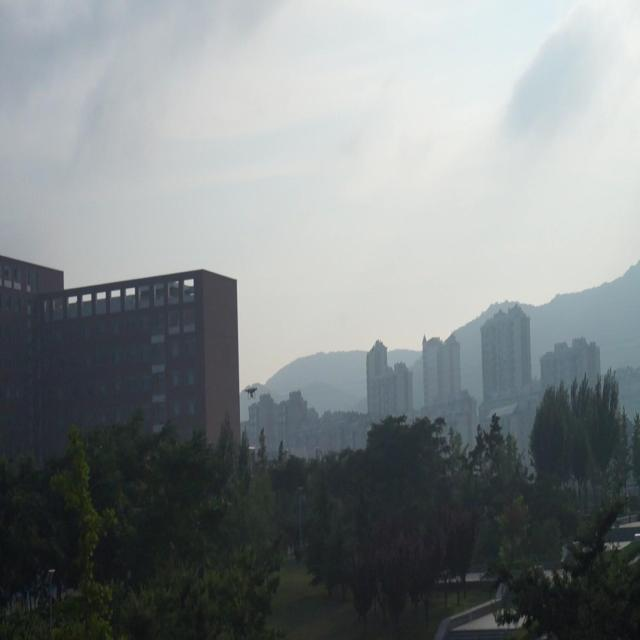drone: (244, 381, 258, 403)
